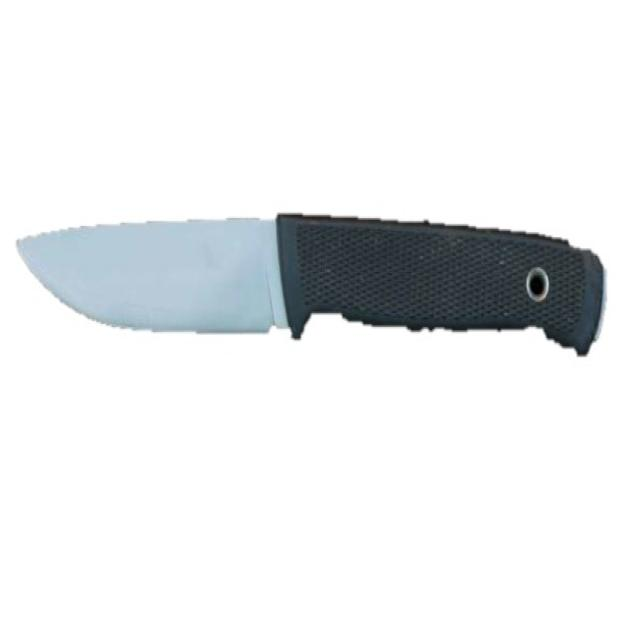knife: (14, 209, 615, 368)
